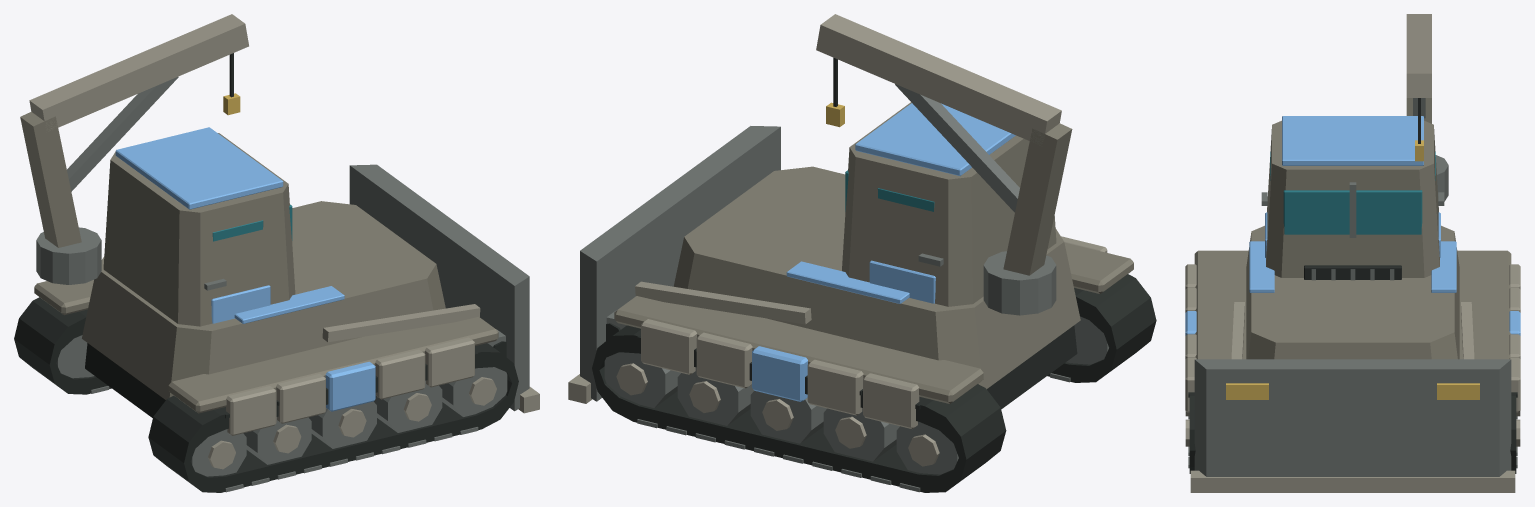
File: engineering_vehicle.glb
The picture shows the model from 3 angles, left to right: view 1: azimuth 30°, elevation 25°; view 2: azimuth 150°, elevation 25°; view 3: azimuth 270°, elevation 25°; orthographic projection. The views are drawn at different scales.
Parts seen in each view (by area): view 1: EngineeringHull; view 2: EngineeringHull; view 3: EngineeringHull.
Boxes of the visible parts, x1=… form: EngineeringHull: x1=14, y1=14, x2=539, y2=492; EngineeringHull: x1=568, y1=14, x2=1156, y2=492; EngineeringHull: x1=1185, y1=14, x2=1520, y2=492.
Bounding box in the file's own units: 2.25 × 1.91 × 1.72.
